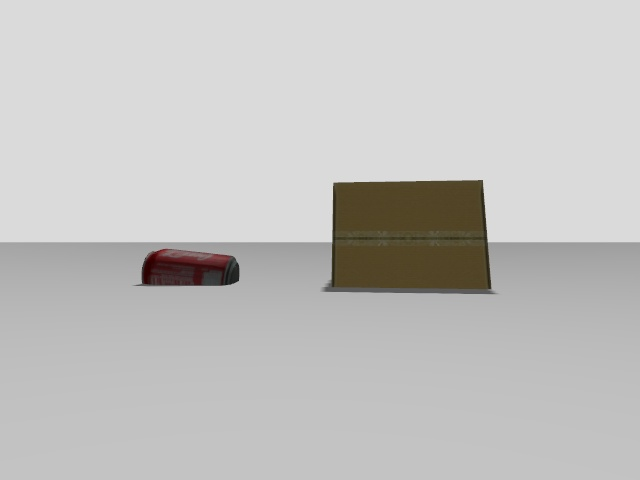canette: (142, 249, 239, 285)
carton: (333, 181, 491, 288)
